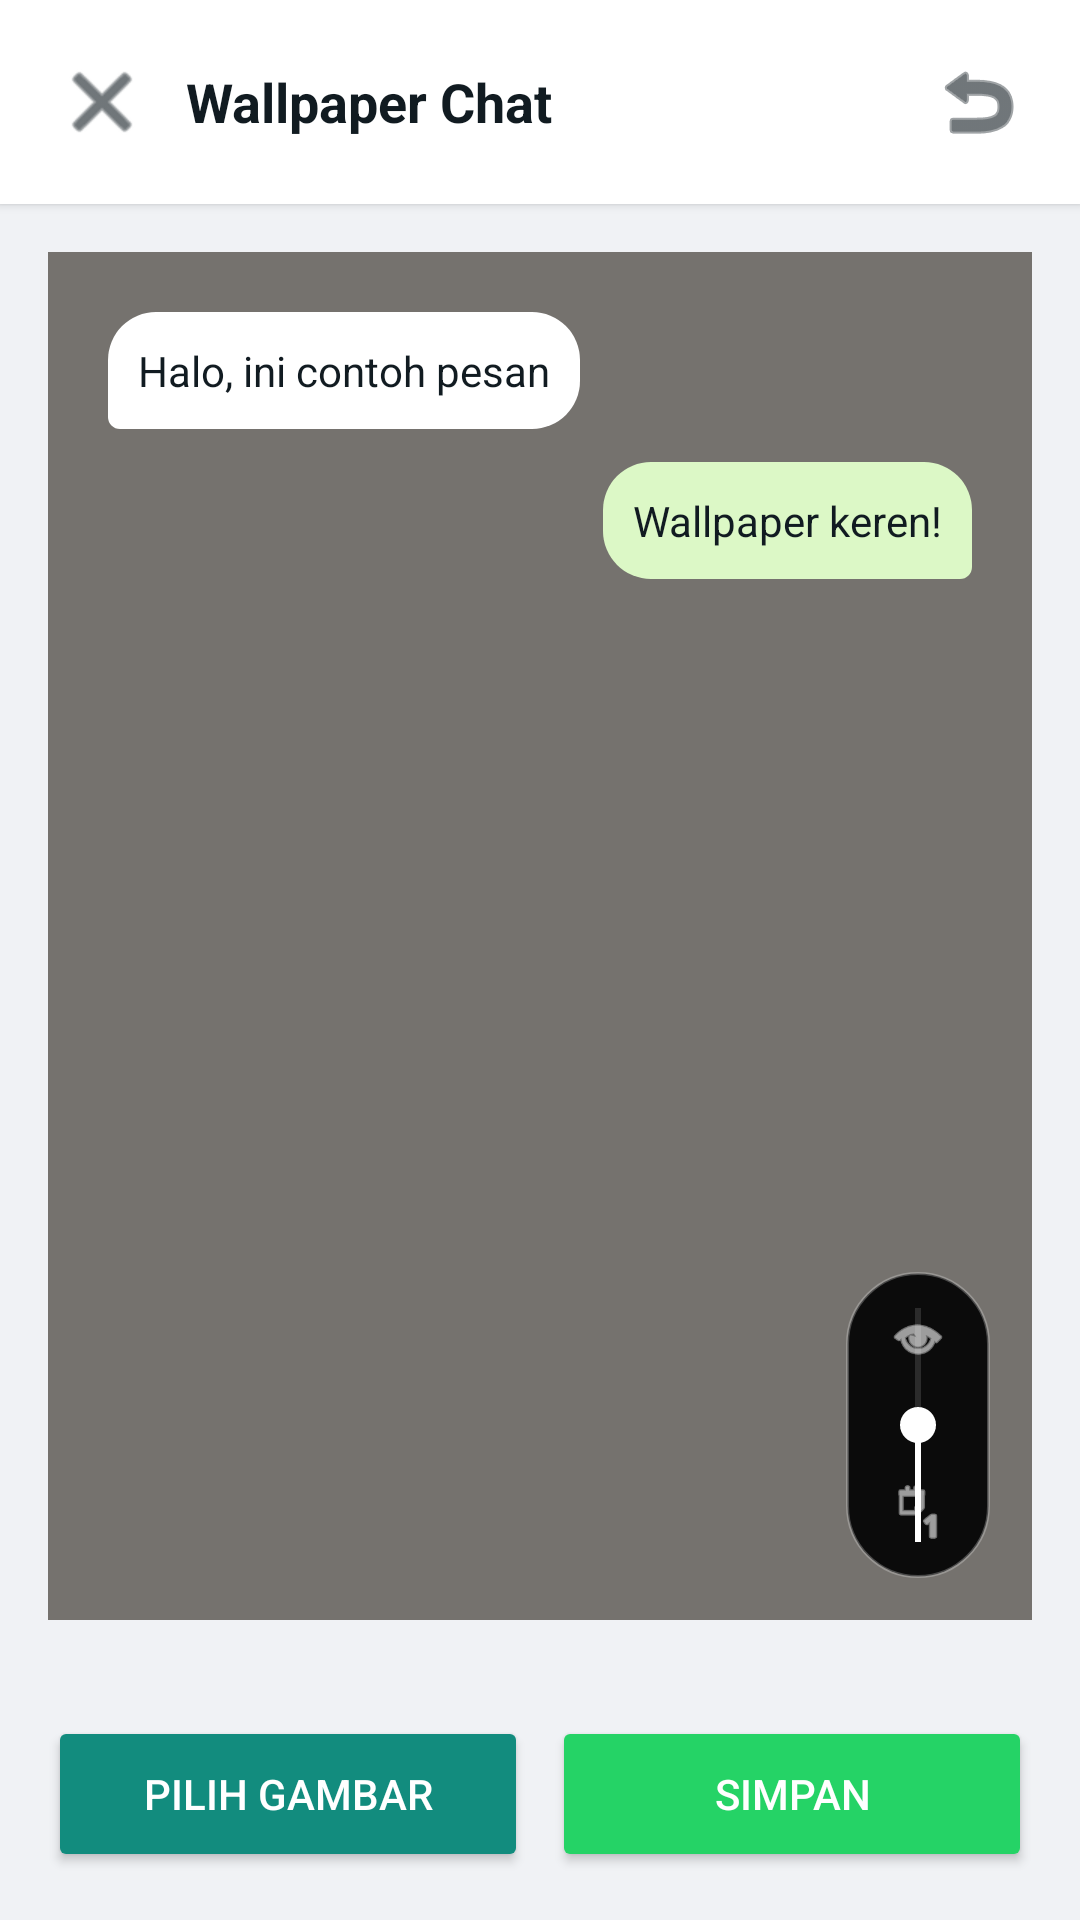

Screen size 1080px×1920px. Icon name, then its center in pixels as (x,y):
Kembali: (102,102)
Reset: (979,102)
